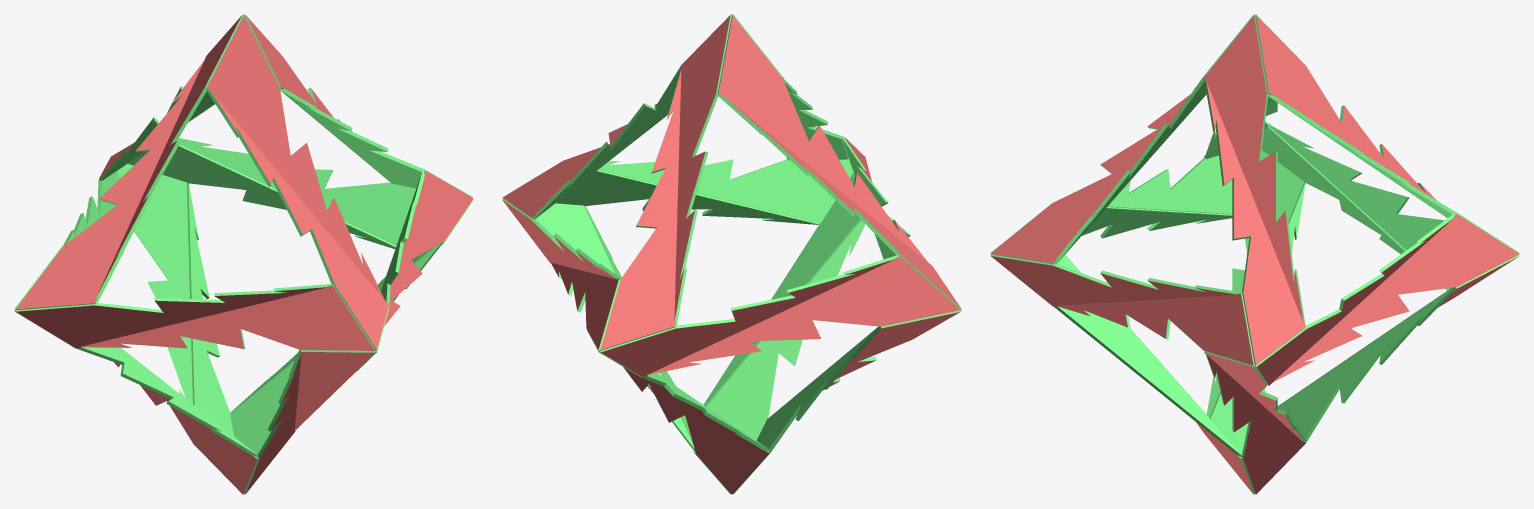
Rendered from Octahedron2.glb.
The picture shows the model from 3 angles, left to right: view 1: azimuth 30°, elevation 25°; view 2: azimuth 150°, elevation 25°; view 3: azimuth 270°, elevation 25°; orthographic projection.
Parts seen in each view (by area): view 1: root; view 2: root; view 3: root.
Part boxes in pixels (box(x1,y1,x2,y2)): root: box(14, 14, 473, 494); root: box(502, 14, 961, 494); root: box(990, 14, 1519, 494).
Bounding box in the file's own units: 1.42 × 1.42 × 1.42.
